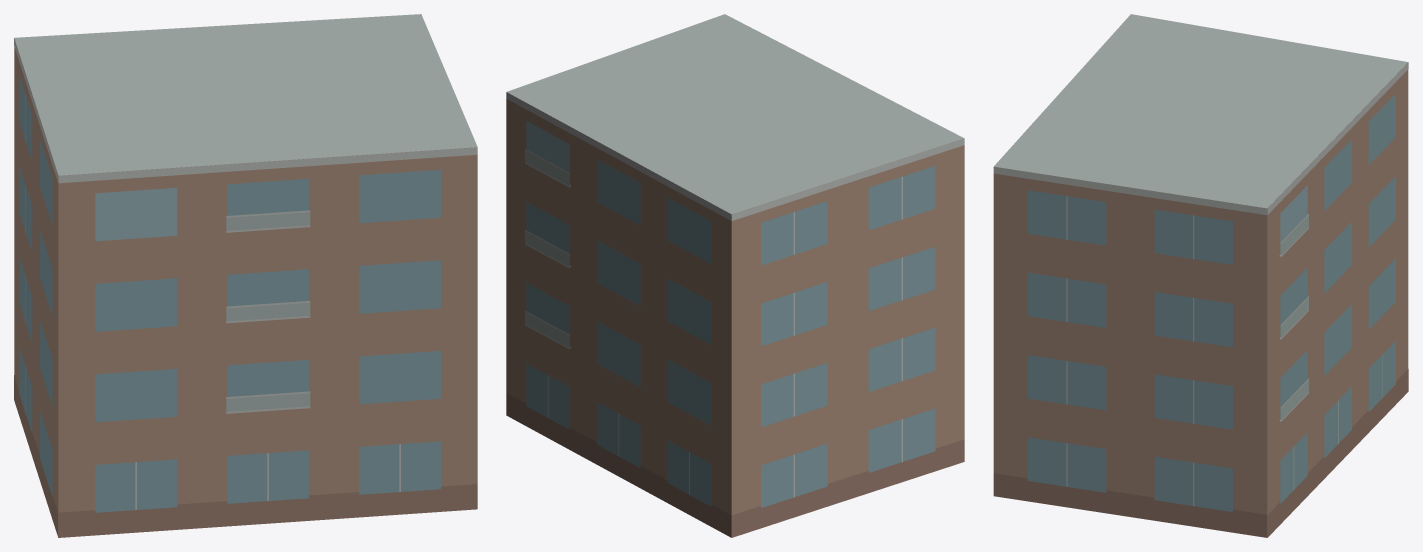
File: survey-upis-32779569.glb
The picture shows the model from 3 angles, left to right: view 1: azimuth 30°, elevation 25°; view 2: azimuth 150°, elevation 25°; view 3: azimuth 270°, elevation 25°; orthographic projection. The views are drawn at different scales.
Visible parts, largest first — view 1: survey-upis-32779569.tmp; view 2: survey-upis-32779569.tmp; view 3: survey-upis-32779569.tmp.
Boxes of the visible parts, <box> form: survey-upis-32779569.tmp: <box>14,14,477,537</box>; survey-upis-32779569.tmp: <box>506,14,964,537</box>; survey-upis-32779569.tmp: <box>993,14,1408,537</box>.
Bounding box in the file's own units: 14.82 × 11.7 × 13.37.
